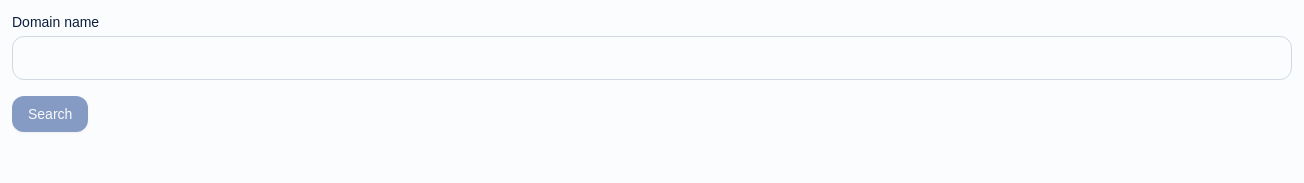
Test case: browser lookup hardening › shows friendly busy errors for certificate-explorer
Later steps or results of the test are not shown.
Type "example.com" into the field. click: (652, 58)
box: [12,36,1292,80]
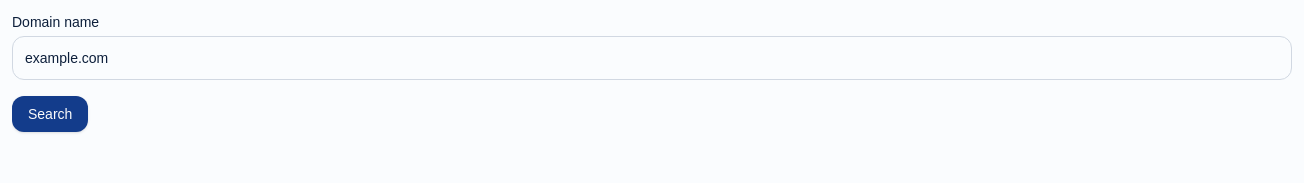
Click the button "Search". click: (50, 114)
box: [12,96,88,132]
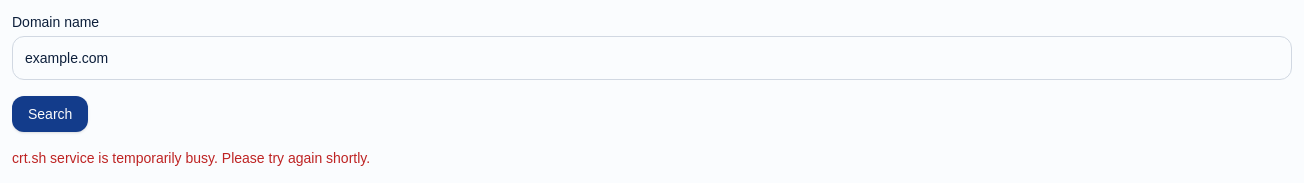
Expected: the message reads "crt.sh service is temporarily busy. Please try again shortly.", [12,150,370,166]
